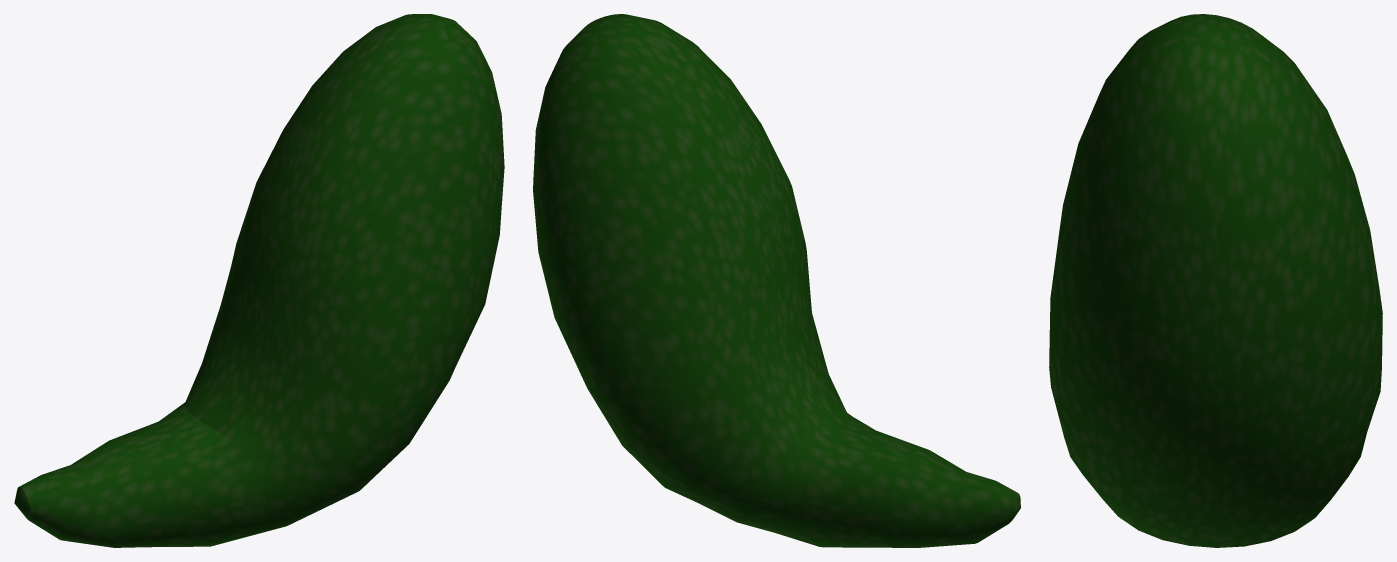
The model's file is mainbody.fbx.
The picture shows the model from 3 angles, left to right: view 1: azimuth 30°, elevation 25°; view 2: azimuth 150°, elevation 25°; view 3: azimuth 270°, elevation 25°; orthographic projection. The views are drawn at different scales.
Parts seen in each view (by area): view 1: Sphere.001; view 2: Sphere.001; view 3: Sphere.001.
Boxes of the visible parts, bbox=[...] form: Sphere.001: bbox=[14, 14, 504, 547]; Sphere.001: bbox=[533, 14, 1020, 547]; Sphere.001: bbox=[1049, 14, 1382, 547].
Size of the model in its own units: 173 by 164 by 80.73.
1 material, 1 textured.
